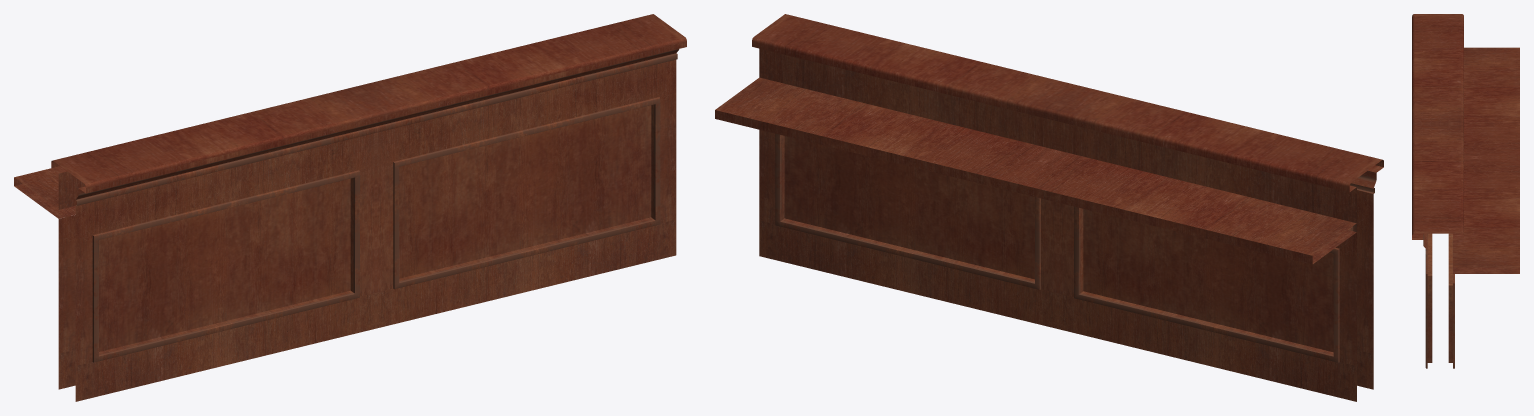
The model's file is ReceptionDesk01_3.FBX.
The picture shows the model from 3 angles, left to right: view 1: azimuth 30°, elevation 25°; view 2: azimuth 150°, elevation 25°; view 3: azimuth 270°, elevation 25°; orthographic projection. The views are drawn at different scales.
Visible parts, largest first — view 1: ReceptionDesk01_3; view 2: ReceptionDesk01_3; view 3: ReceptionDesk01_3.
Boxes of the visible parts, x1,y1,x2,y2 form: ReceptionDesk01_3: (14, 14, 686, 401); ReceptionDesk01_3: (715, 14, 1383, 401); ReceptionDesk01_3: (1412, 14, 1519, 368).
Size of the model in its own units: 3500 by 1250 by 725.
